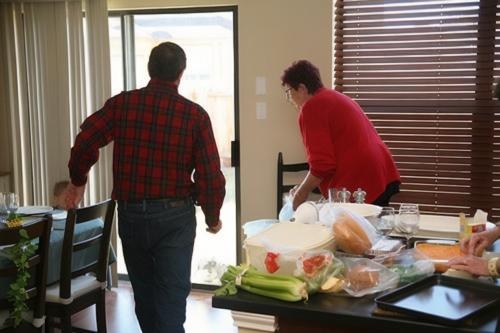chair: (48, 199, 109, 332), (275, 152, 320, 223)
diningtable: (4, 209, 115, 296)
person: (58, 42, 227, 330), (274, 61, 406, 206)
person/hand: (59, 183, 86, 210), (205, 220, 224, 236), (293, 194, 306, 211)
person/head: (279, 60, 322, 108), (147, 41, 187, 85)
pottedplant: (3, 213, 47, 330)
